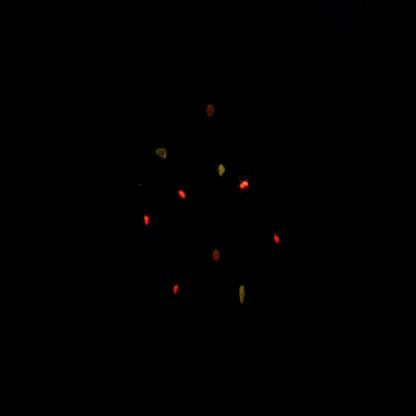PET: (162, 265, 185, 307), (266, 216, 294, 250)
PP: (207, 157, 229, 195), (232, 273, 251, 311), (154, 135, 175, 169)
PS: (210, 242, 226, 274), (204, 97, 220, 128)
PVC: (138, 201, 156, 237), (236, 170, 254, 204), (176, 178, 193, 209)
